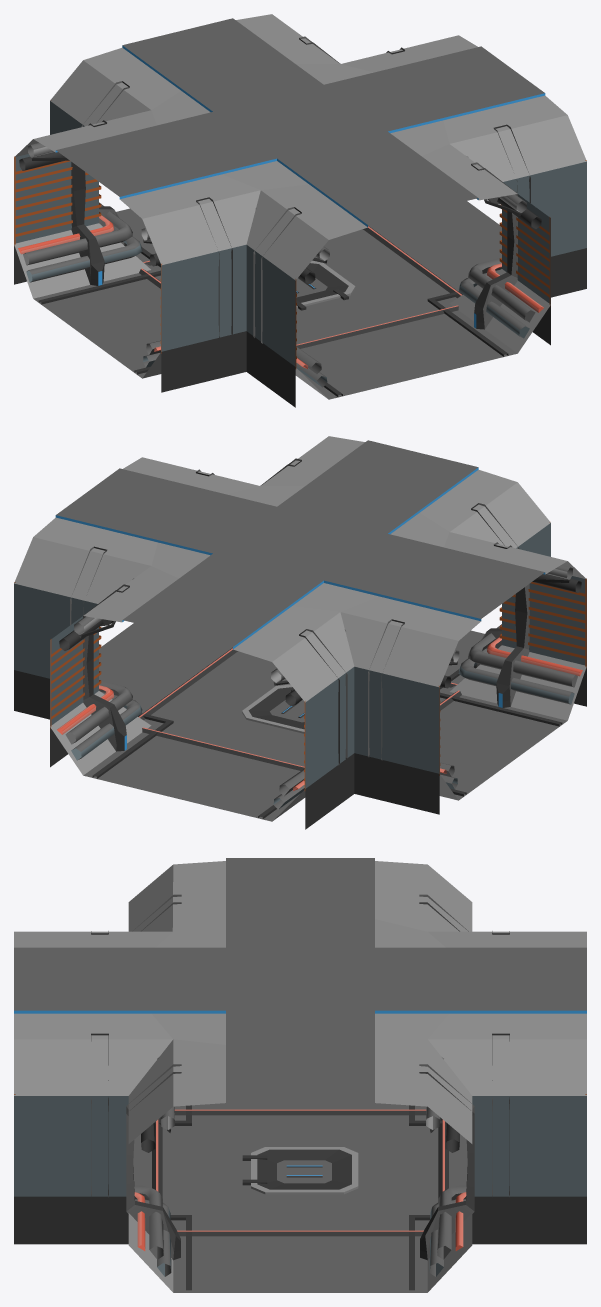
The model's file is Cross_SciFi_Tunnel.fbx.
The picture shows the model from 3 angles, top to bottom: view 1: azimuth 30°, elevation 25°; view 2: azimuth 150°, elevation 25°; view 3: azimuth 270°, elevation 25°; orthographic projection. The views are drawn at different scales.
Parts seen in each view (by area): view 1: Cross_SciFi_Tunnel_Ceiling, Cross_SciFi_Tunnel, Cross_SciFi_Tunnel_South, Cross_SciFi_Tunnel_West, Cross_SciFi_Tunnel_North, Cross_SciFi_Tunnel_East; view 2: Cross_SciFi_Tunnel_Ceiling, Cross_SciFi_Tunnel, Cross_SciFi_Tunnel_North, Cross_SciFi_Tunnel_West, Cross_SciFi_Tunnel_South, Cross_SciFi_Tunnel_East; view 3: Cross_SciFi_Tunnel_Ceiling, Cross_SciFi_Tunnel, Cross_SciFi_Tunnel_East, Cross_SciFi_Tunnel_North, Cross_SciFi_Tunnel_South.
Part boxes in pixels (box(x1,y1,x2,y2)): Cross_SciFi_Tunnel_Ceiling: box(33, 14, 567, 239); Cross_SciFi_Tunnel: box(14, 201, 586, 407); Cross_SciFi_Tunnel_South: box(141, 115, 586, 353); Cross_SciFi_Tunnel_West: box(50, 60, 329, 368); Cross_SciFi_Tunnel_North: box(14, 47, 404, 285); Cross_SciFi_Tunnel_East: box(299, 36, 550, 329); Cross_SciFi_Tunnel_Ceiling: box(33, 436, 567, 661); Cross_SciFi_Tunnel: box(14, 623, 586, 829); Cross_SciFi_Tunnel_North: box(14, 537, 459, 775); Cross_SciFi_Tunnel_West: box(271, 482, 550, 790); Cross_SciFi_Tunnel_South: box(196, 469, 586, 707); Cross_SciFi_Tunnel_East: box(50, 458, 301, 751); Cross_SciFi_Tunnel_Ceiling: box(14, 858, 586, 1106); Cross_SciFi_Tunnel: box(14, 1100, 586, 1292); Cross_SciFi_Tunnel_East: box(14, 1033, 586, 1197); Cross_SciFi_Tunnel_North: box(419, 865, 474, 1260); Cross_SciFi_Tunnel_South: box(126, 865, 181, 1260).
Size of the model in its own units: 1000 by 372 by 1000.
